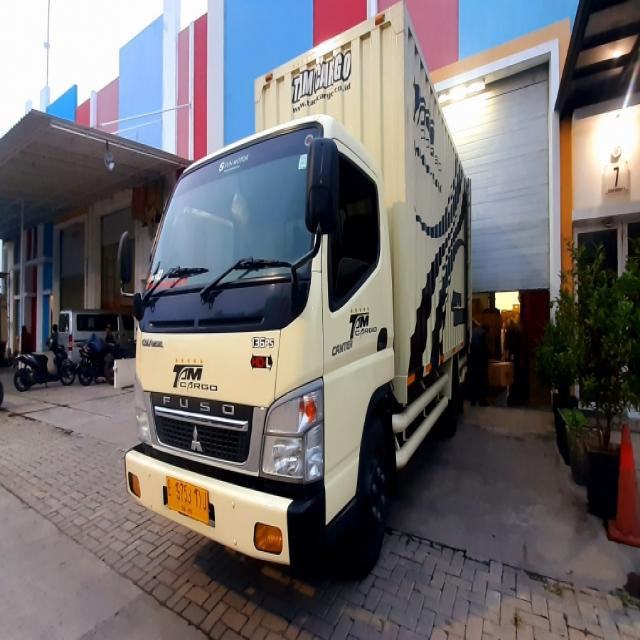truck: (123, 0, 475, 619)
